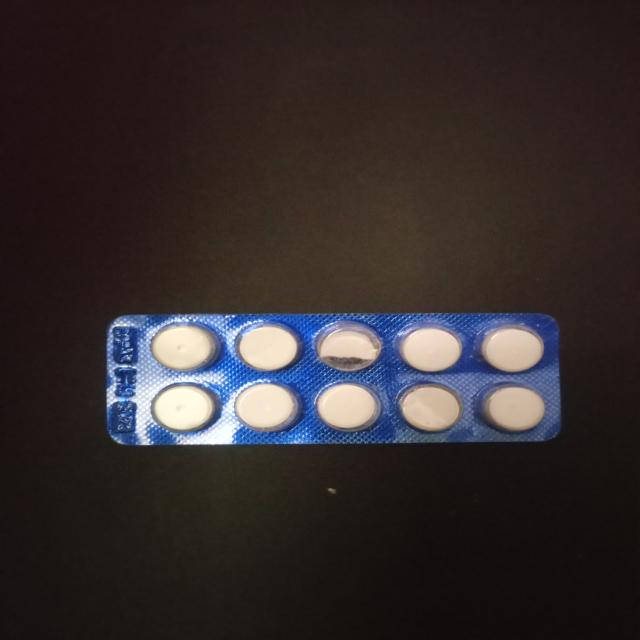defect: (312, 319, 386, 374)
